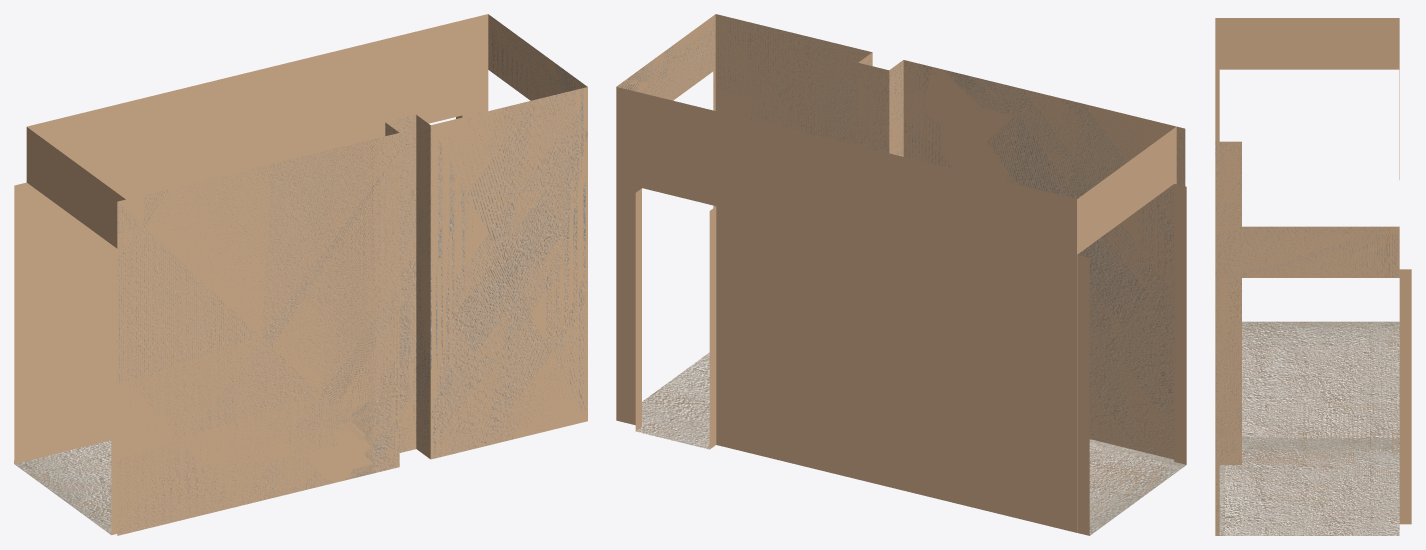
The model's file is COM019.obj.
The picture shows the model from 3 angles, left to right: view 1: azimuth 30°, elevation 25°; view 2: azimuth 150°, elevation 25°; view 3: azimuth 270°, elevation 25°; orthographic projection. The views are drawn at different scales.
Visible parts, largest first — view 1: Mesh1 COM019 Model; view 2: Mesh1 COM019 Model; view 3: Mesh1 COM019 Model.
Boxes of the visible parts, left/top/right/bottom form: Mesh1 COM019 Model: left=14, top=14, right=587, bottom=535; Mesh1 COM019 Model: left=616, top=14, right=1186, bottom=535; Mesh1 COM019 Model: left=1215, top=18, right=1411, bottom=535.
Size of the model in its own units: 5.34 by 3.6 by 2.07.
Materials: 3 (2 with a texture image).
